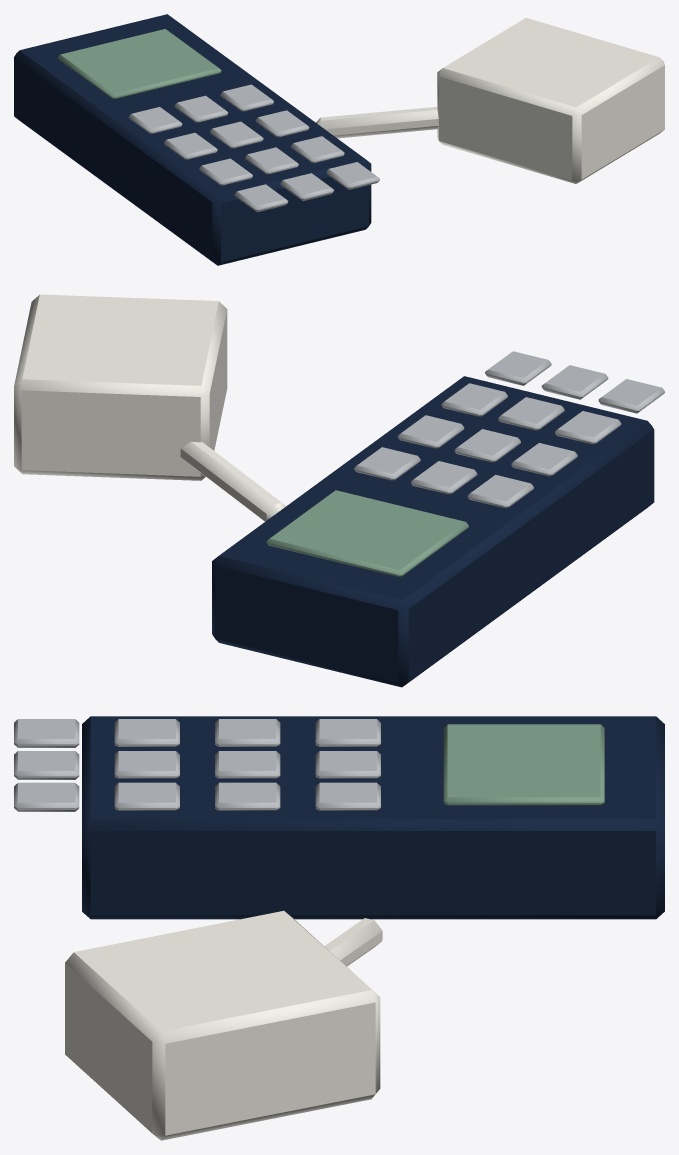
Rendered from Nokia_DoChuong.glb.
3 renders of one model, top to bottom at view 1: azimuth 30°, elevation 25°; view 2: azimuth 150°, elevation 25°; view 3: azimuth 270°, elevation 25°, orthographic. The views are drawn at different scales.
Visible parts, largest first — view 1: Nokia_DoChuong; view 2: Nokia_DoChuong; view 3: Nokia_DoChuong.
Part boxes in pixels (left/top/right/bottom): Nokia_DoChuong: left=14, top=14, right=664, bottom=265; Nokia_DoChuong: left=14, top=294, right=664, bottom=687; Nokia_DoChuong: left=14, top=716, right=664, bottom=1140.
Size of the model in its own units: 0.1561 by 0.024 by 0.1295.
